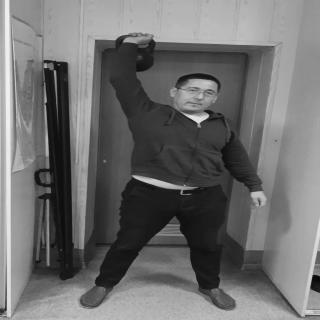girya: (116, 36, 158, 71)
